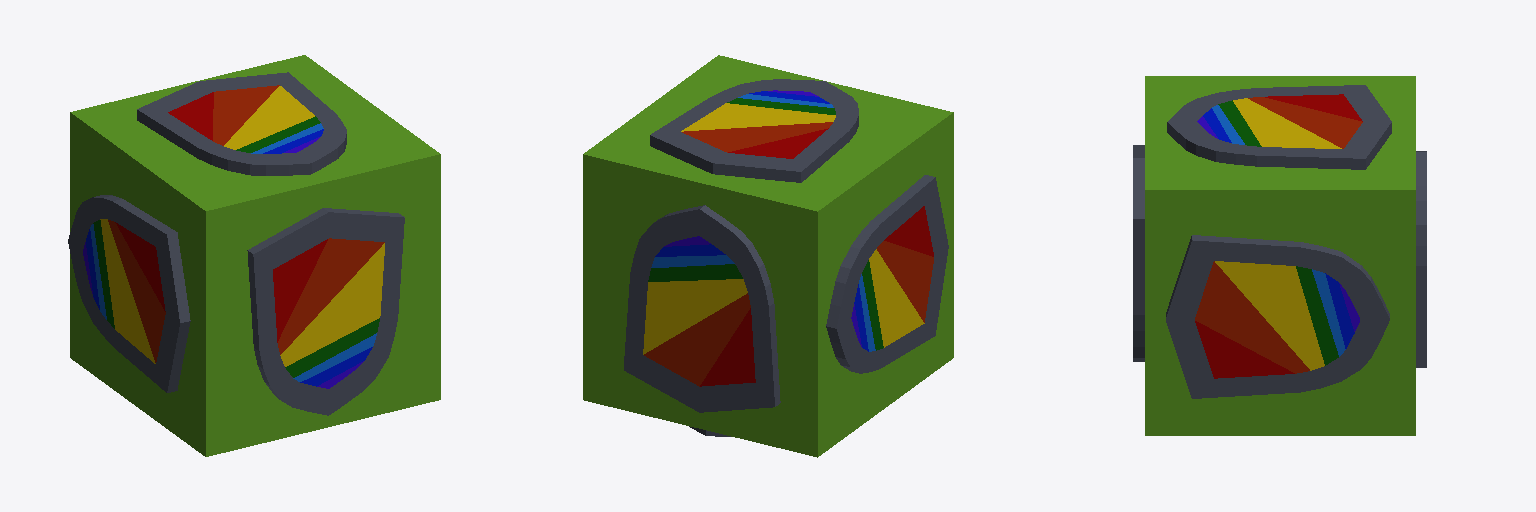
The model's file is positive-invincibility.obj.
3 views of the same model, side by side, from view 1: azimuth 30°, elevation 25°; view 2: azimuth 150°, elevation 25°; view 3: azimuth 270°, elevation 25° (orthographic).
Visible parts, largest first — view 1: Cube.018_Cube.045; view 2: Cube.018_Cube.045; view 3: Cube.018_Cube.045.
Boxes of the visible parts, box(x1,y1,x2,y2) form: Cube.018_Cube.045: box(68, 55, 440, 456); Cube.018_Cube.045: box(583, 55, 953, 457); Cube.018_Cube.045: box(1133, 76, 1426, 435).
Size of the model in its own units: 2.18 by 2.18 by 2.17.